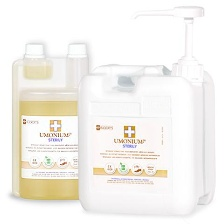cleaning_solution: (74, 60, 211, 221), (125, 3, 217, 205), (7, 42, 96, 204)
